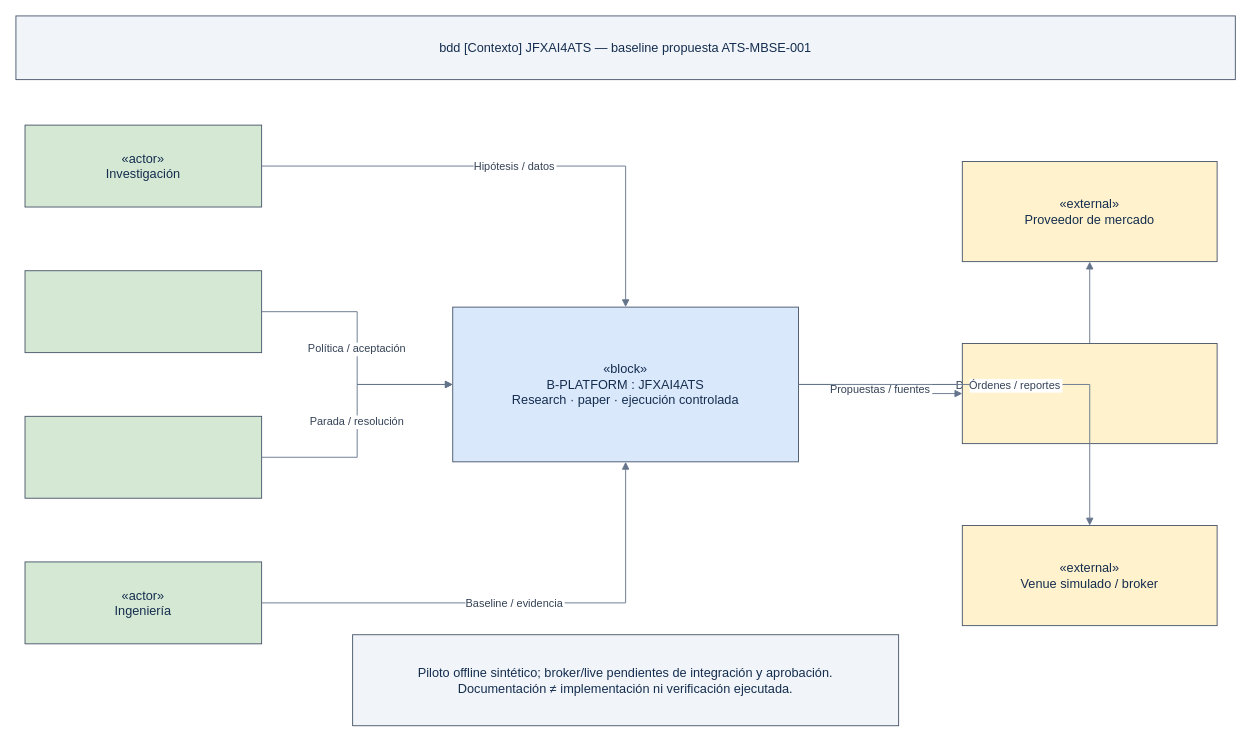
Some shapes in this 1251 by 742 pixel diagram are drawn without their labels. The centre of each missing label's shape, as x and y in pixels:
"«actor» Operaciones" belongs at (143,456).
"«actor» Riesgo" belongs at (143,311).
"«external» Modelo reemplazable" belongs at (1089,393).
